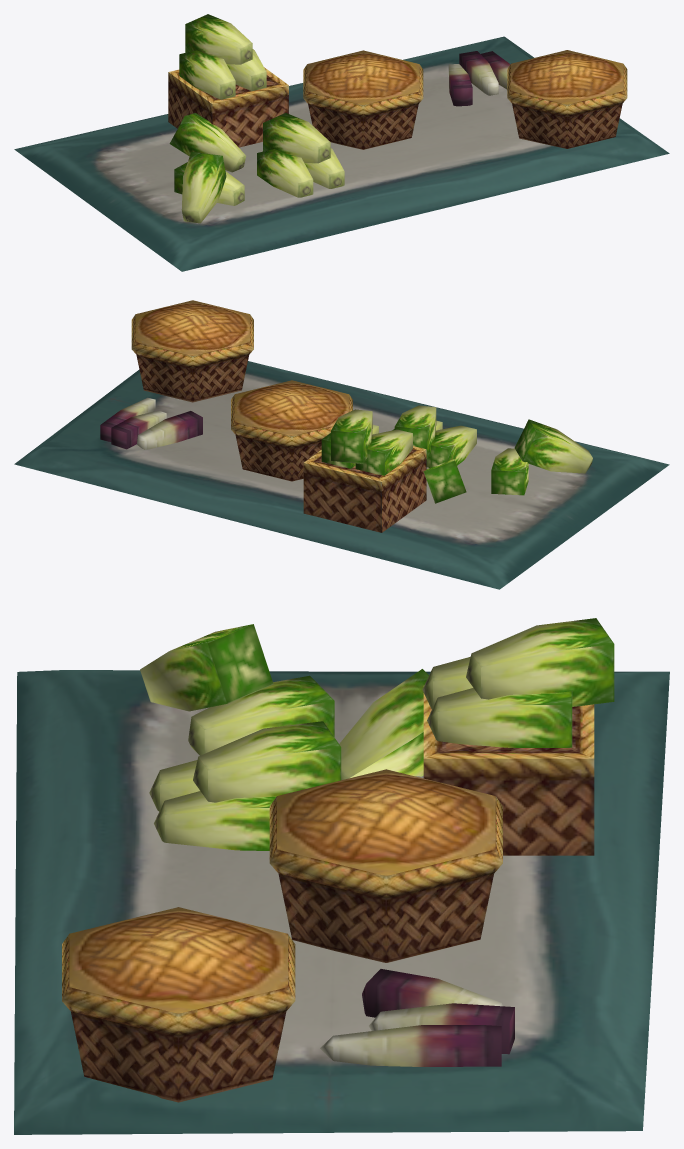
Rendered from szc_object_tanwei04a.FBX.
3 renders of one model, top to bottom at view 1: azimuth 30°, elevation 25°; view 2: azimuth 150°, elevation 25°; view 3: azimuth 270°, elevation 25°, orthographic. The views are drawn at different scales.
Parts seen in each view (by area): view 1: szc_object_tanwei04a; view 2: szc_object_tanwei04a; view 3: szc_object_tanwei04a.
Boxes of the visible parts, x1,y1,x2,y2 form: szc_object_tanwei04a: (14, 14, 669, 271); szc_object_tanwei04a: (14, 300, 669, 589); szc_object_tanwei04a: (14, 618, 669, 1134).
Size of the model in its own units: 315 by 62.85 by 188.
